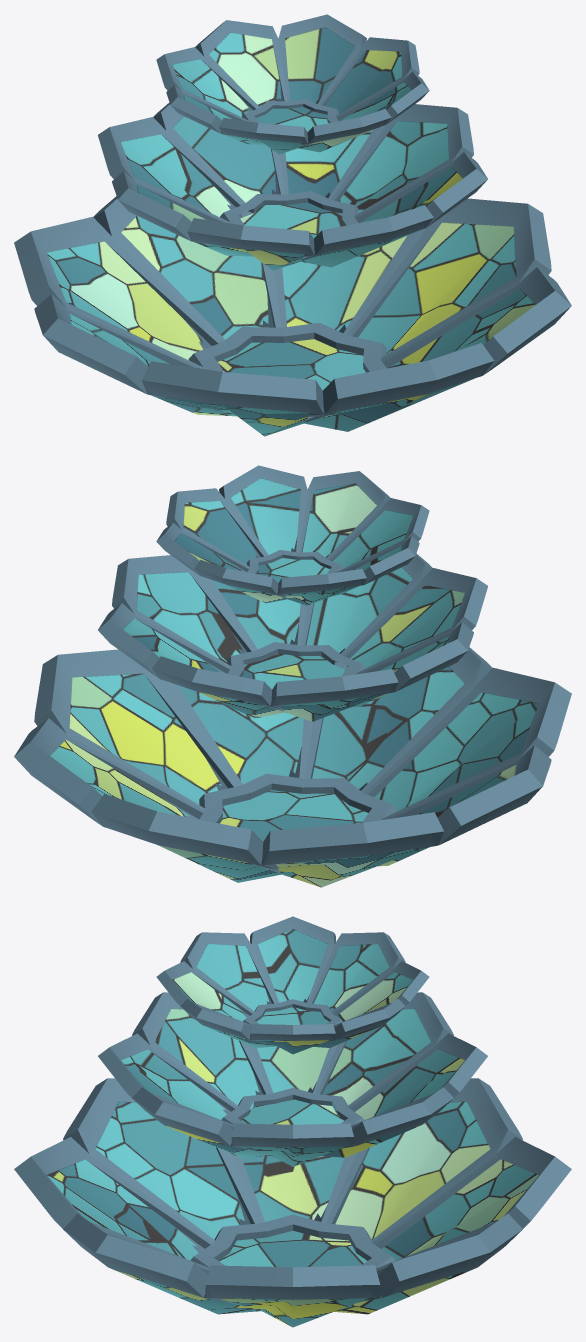
Rendered from Fountain.fbx.
3 views of the same model, one above another, from view 1: azimuth 30°, elevation 25°; view 2: azimuth 150°, elevation 25°; view 3: azimuth 270°, elevation 25° (orthographic). The views are drawn at different scales.
Visible parts, largest first — view 1: Fountain.render; view 2: Fountain.render; view 3: Fountain.render.
Boxes of the visible parts, x1,y1,x2,y2 form: Fountain.render: (14, 14, 571, 436); Fountain.render: (14, 465, 571, 887); Fountain.render: (14, 916, 571, 1327).
Size of the model in its own units: 1914 by 1180 by 1914.
Materials: 2 (1 with a texture image).
